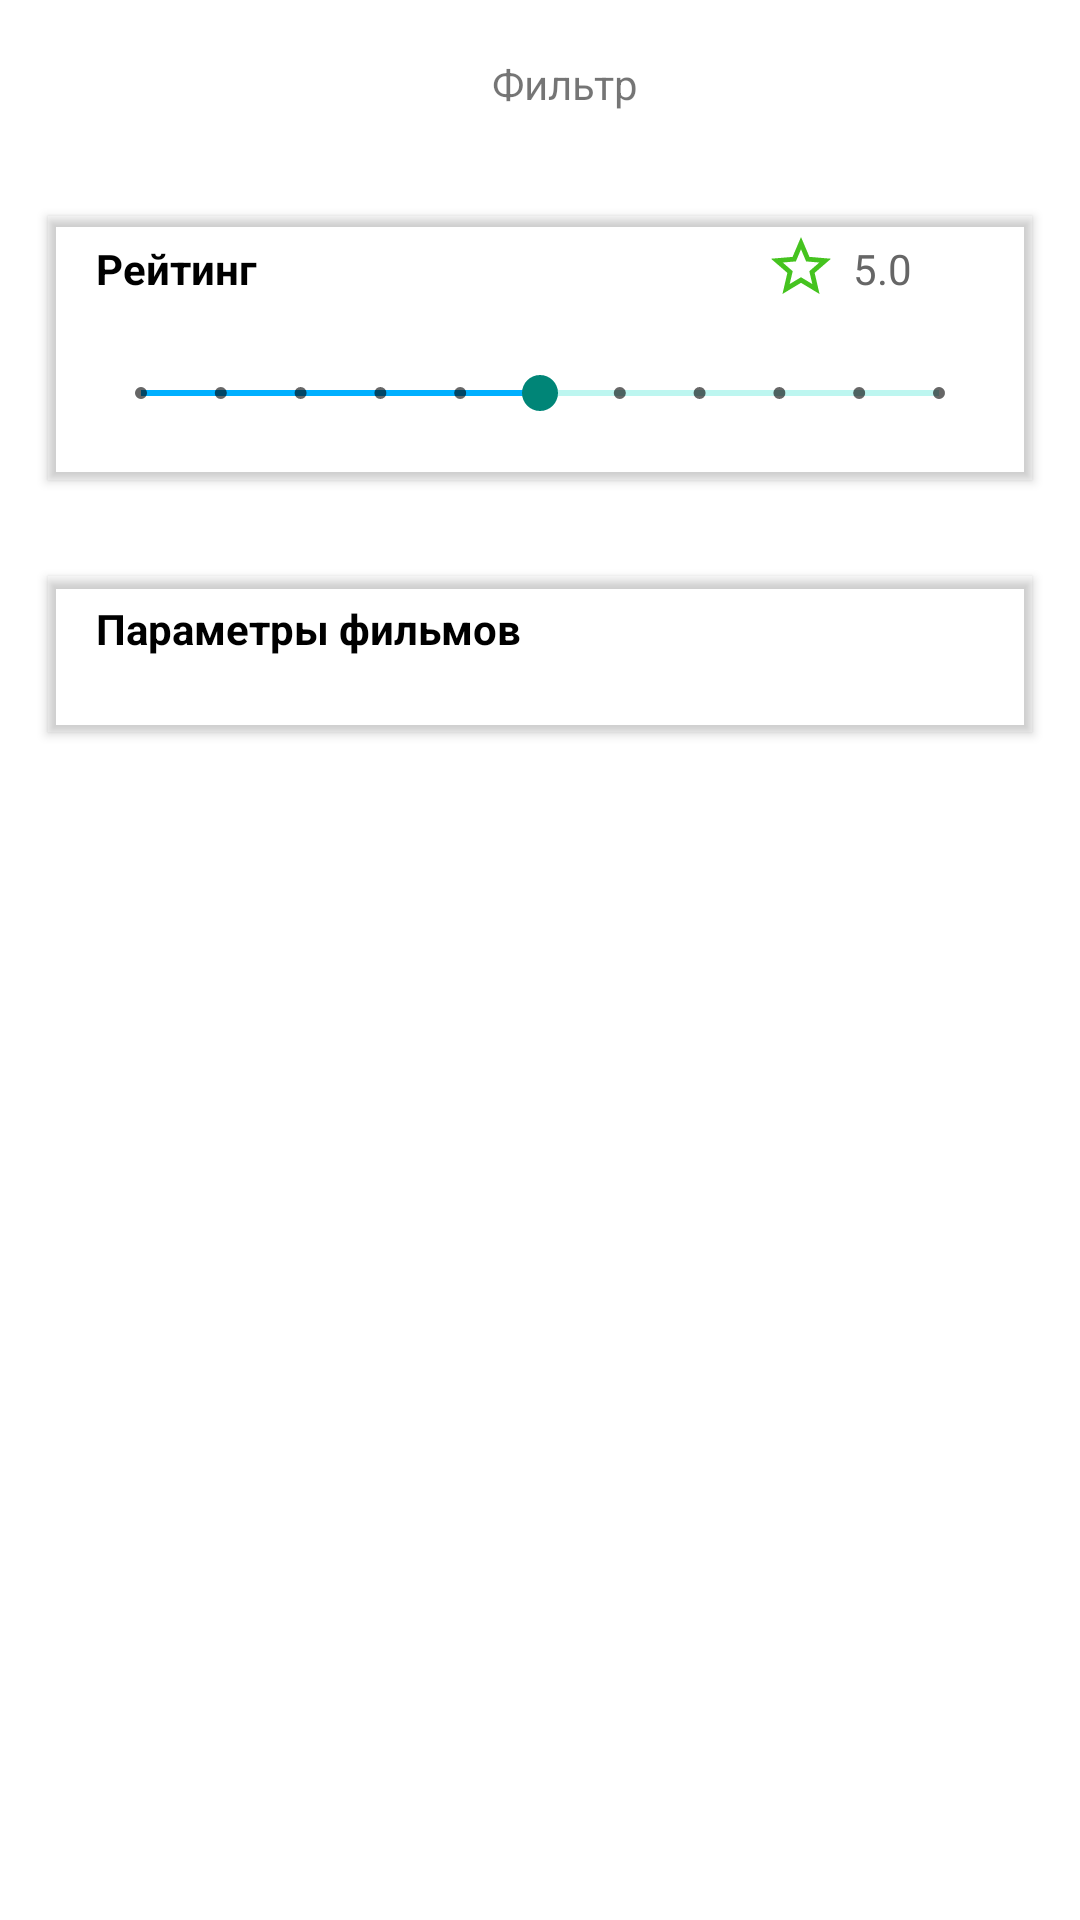

Where icons sit on this 1080 × 1920 app screen, as box(x1, y1, x2, y2):
star border: box(771, 237, 831, 294)
